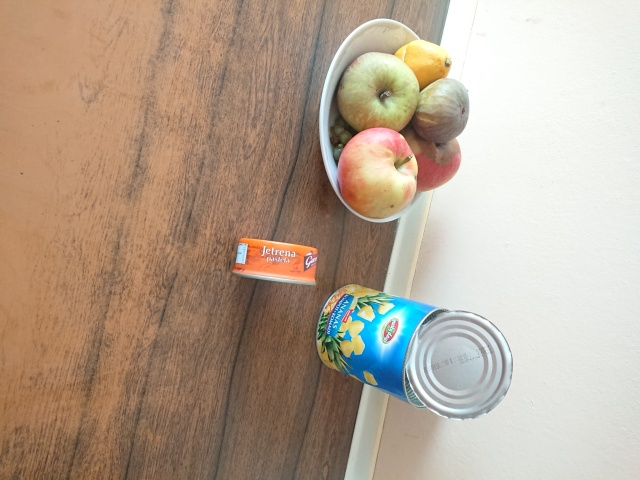Gavrilovic Pork Liver Pate 100g: (230, 235, 319, 288)
